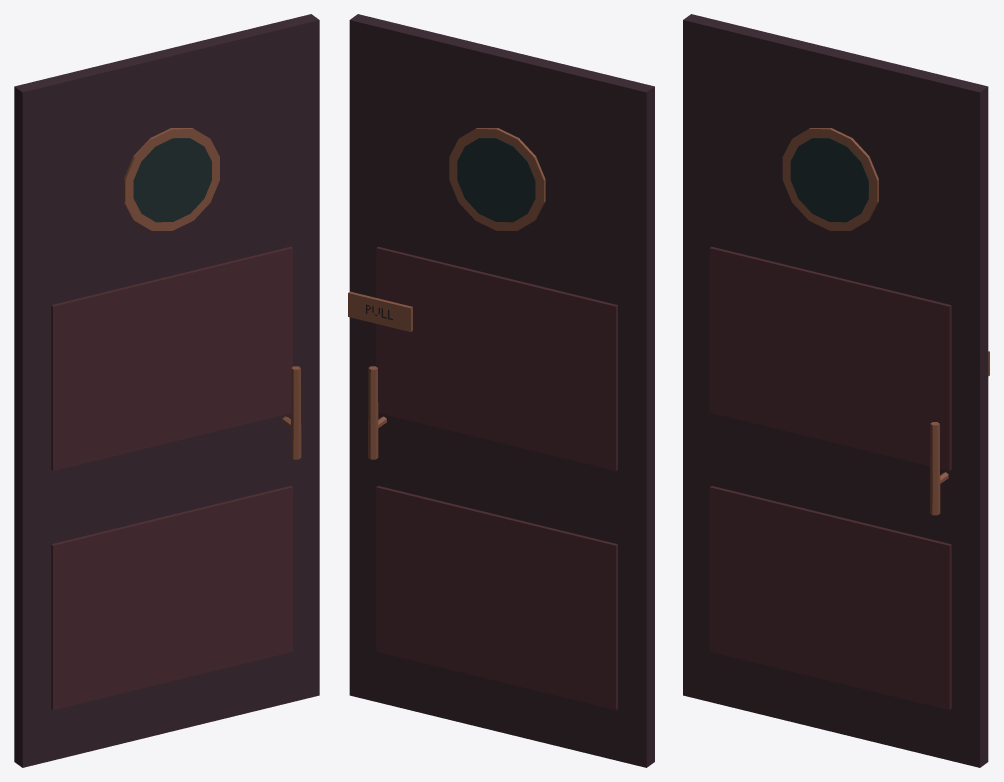
The model's file is usa_bar.glb.
The picture shows the model from 3 angles, left to right: view 1: azimuth 30°, elevation 25°; view 2: azimuth 150°, elevation 25°; view 3: azimuth 330°, elevation 25°; orthographic projection.
Visible parts, largest first — view 1: Usa, Geam; view 2: Usa, Geam; view 3: Usa, Geam.
Boxes of the visible parts, x1,y1,x2,y2 form: Usa: [14, 14, 319, 767]; Geam: [133, 138, 211, 222]; Usa: [348, 14, 654, 767]; Geam: [457, 138, 535, 222]; Usa: [683, 14, 989, 767]; Geam: [790, 138, 868, 222].
Size of the model in its own units: 1.04 by 2.26 by 0.212.
